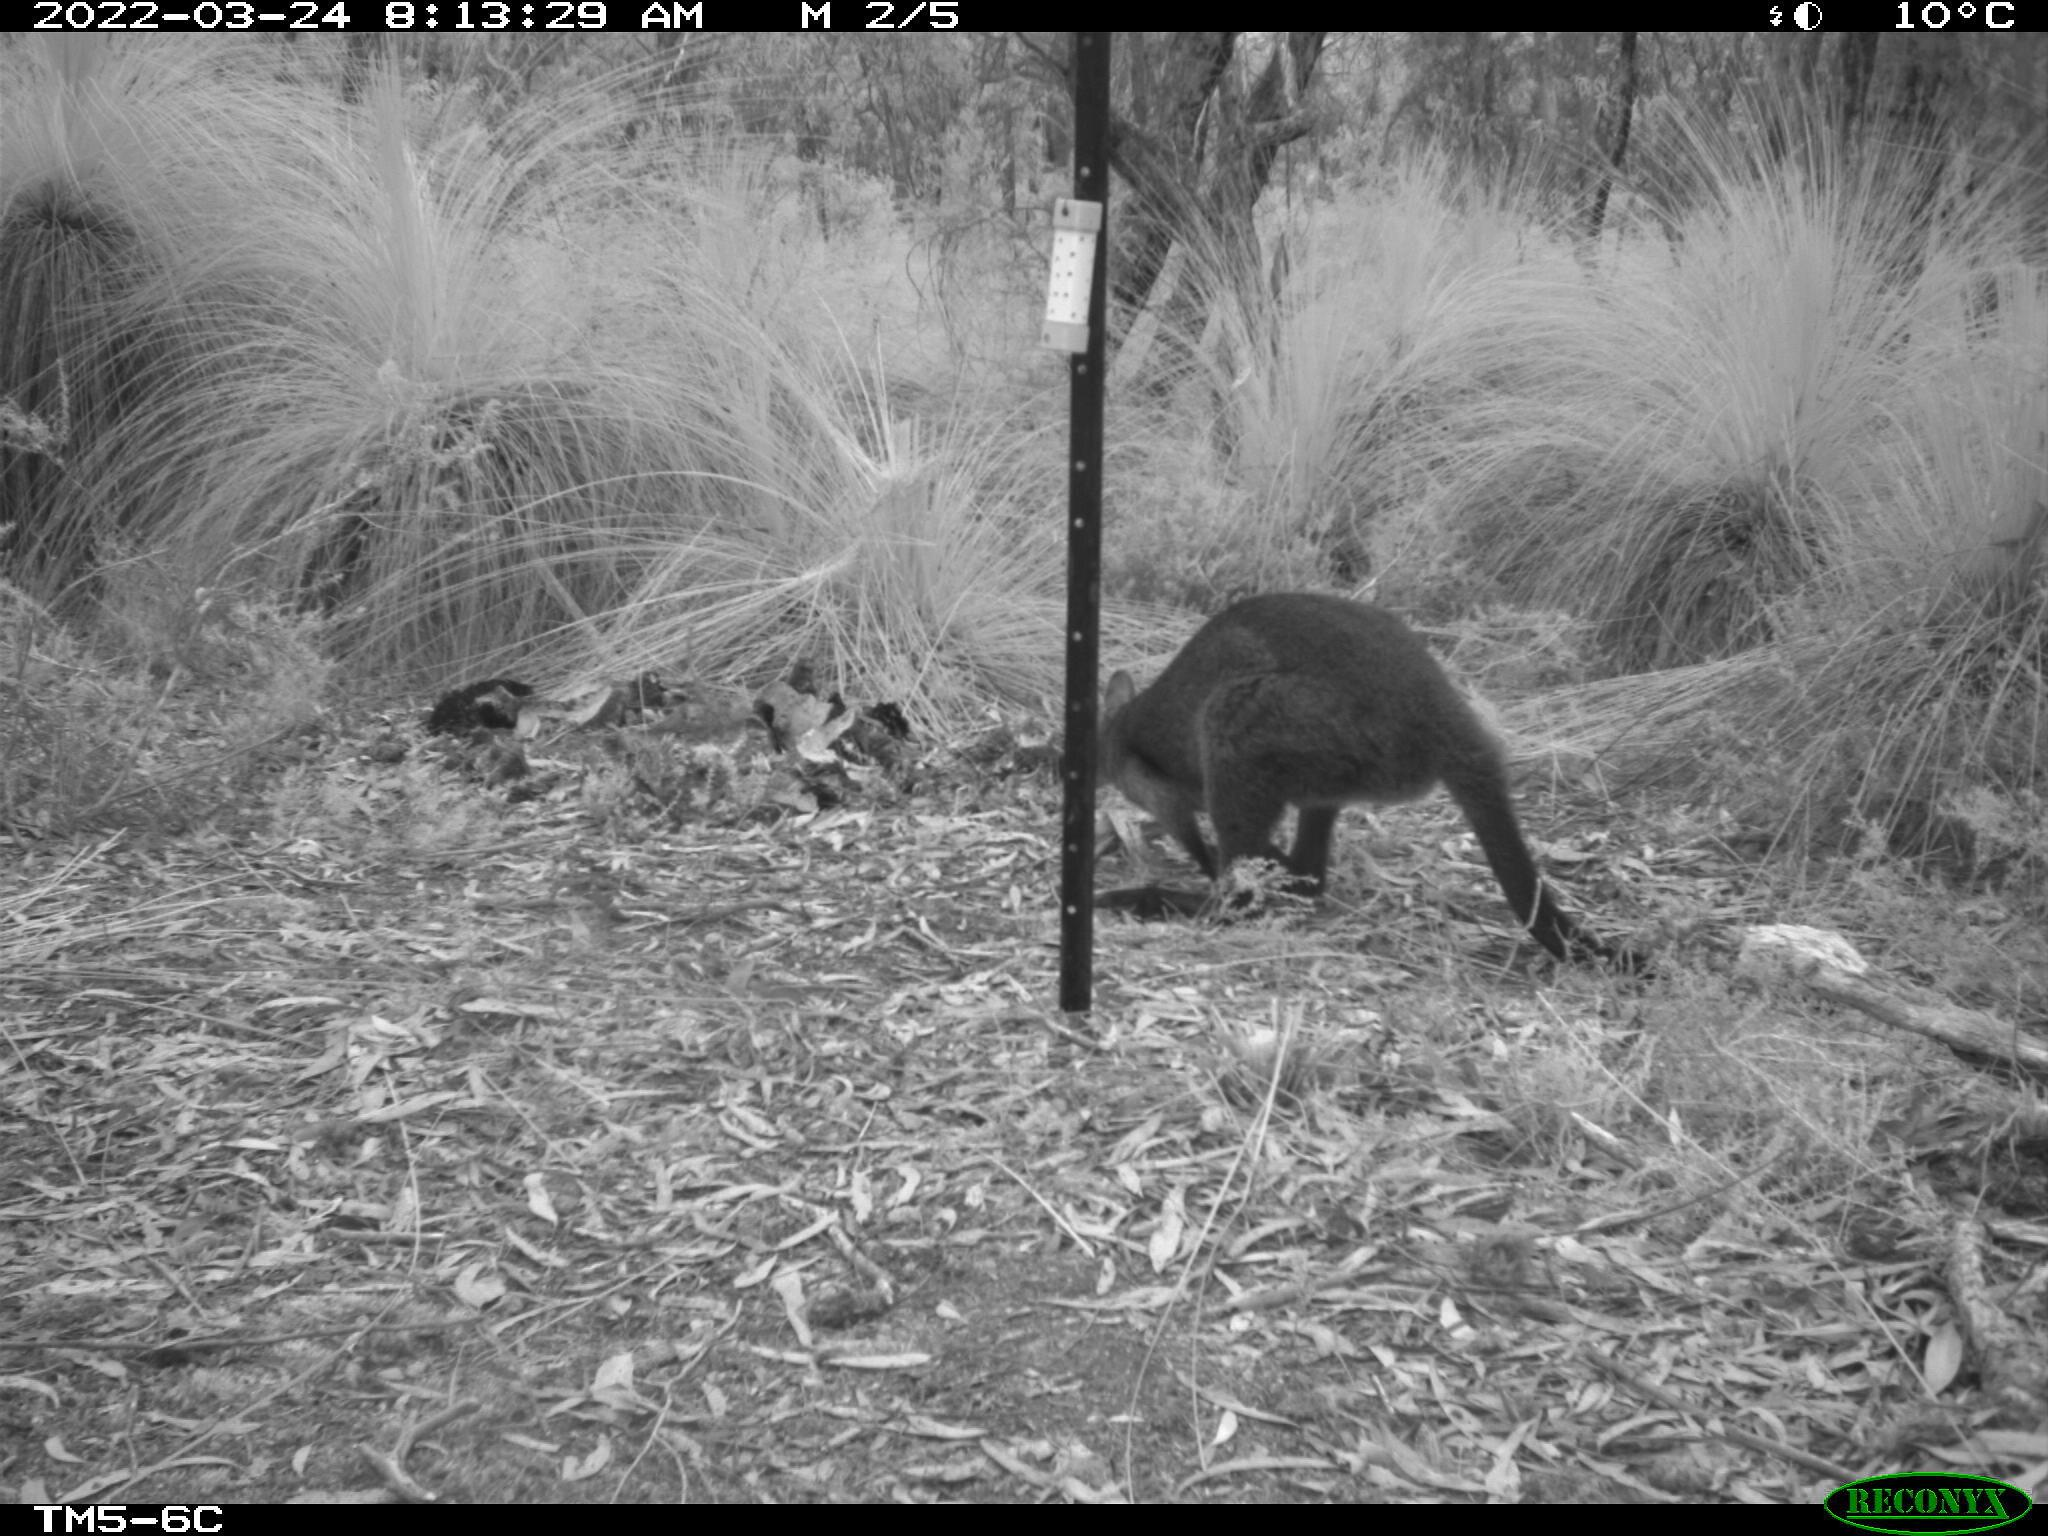Swamp wallaby: (1039, 586, 1611, 971)
